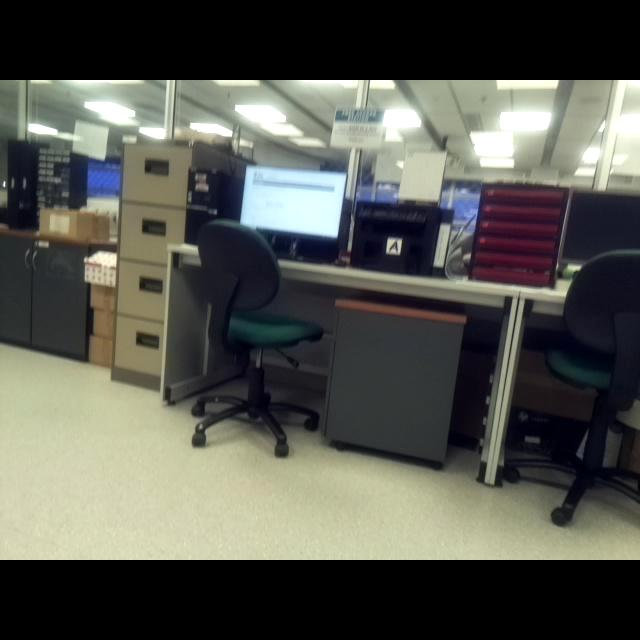A: (387, 241, 399, 254)
